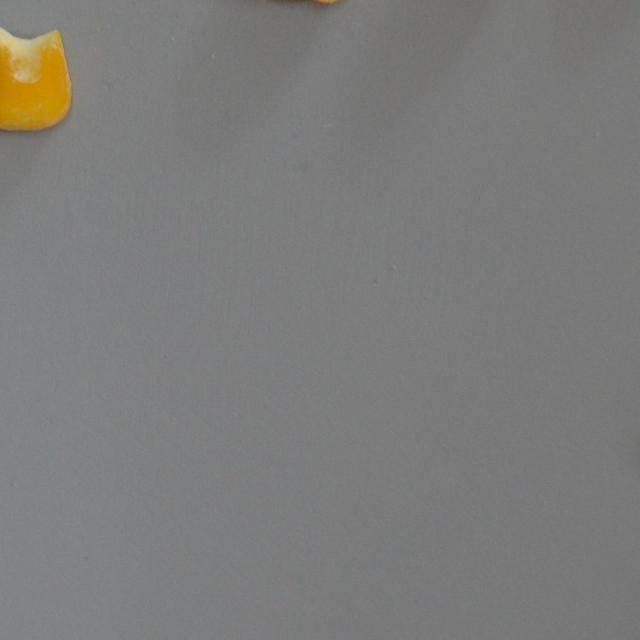pelicula: (0, 24, 72, 131)
